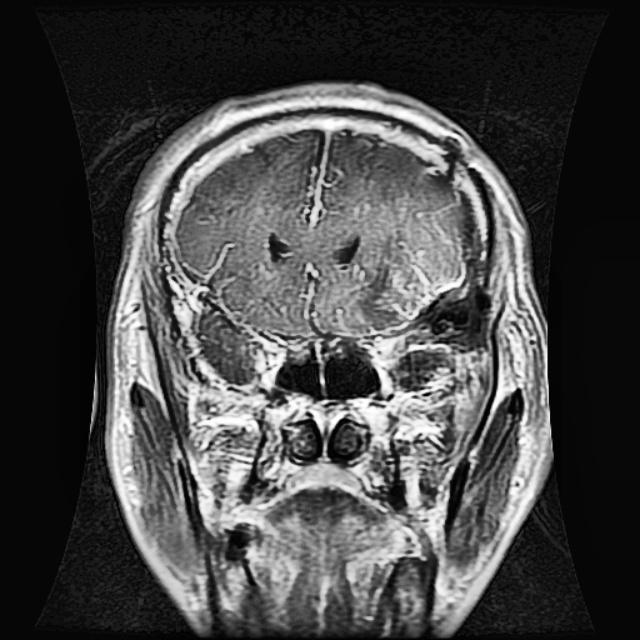Meningioma: (388, 190, 490, 393)
